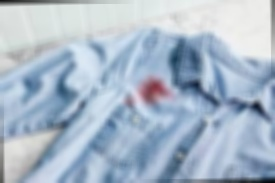wine: (123, 73, 174, 108)
